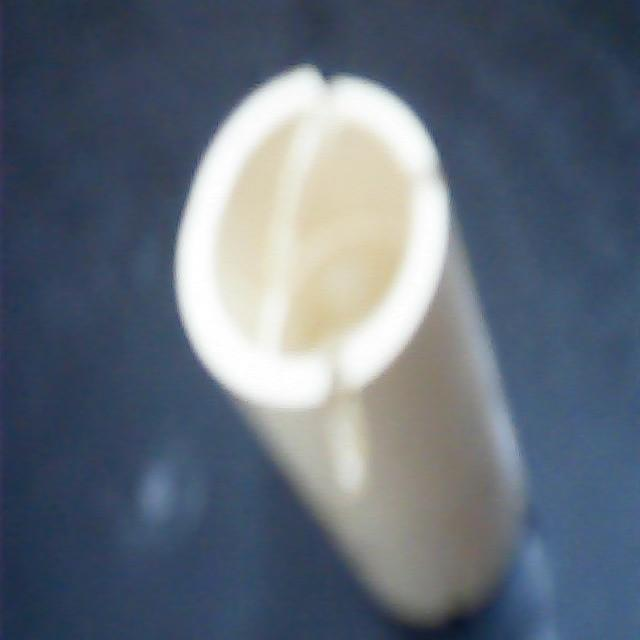Defective: (256, 194, 416, 493)
T Joint: (173, 63, 530, 633)
